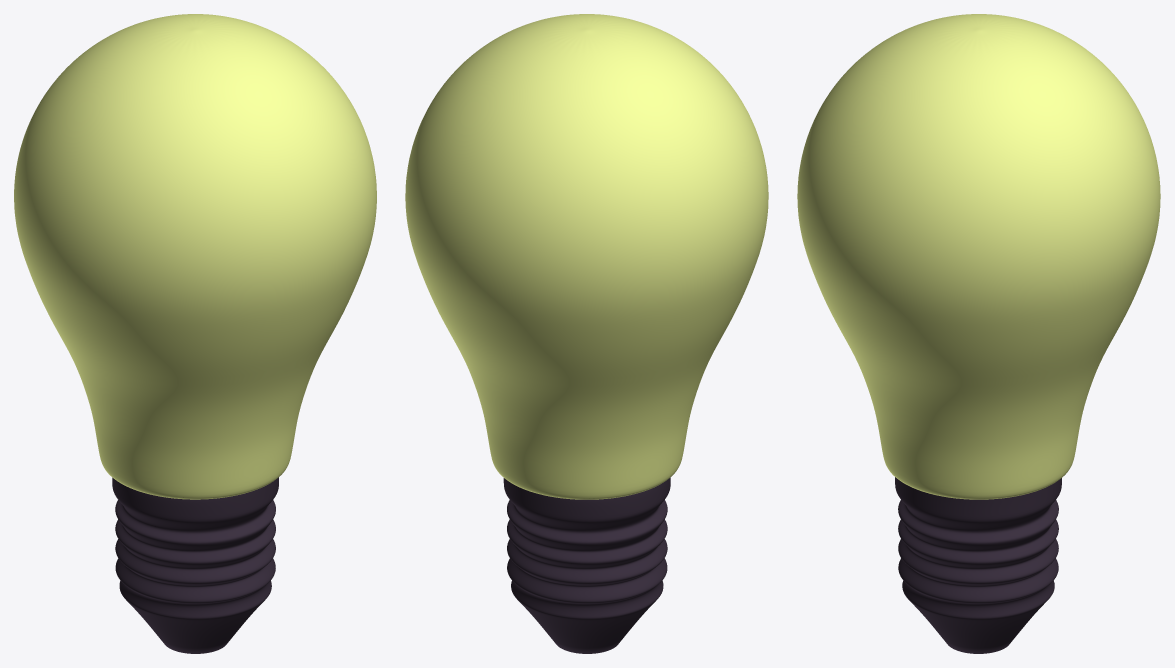
File: foco2.fbx
The picture shows the model from 3 angles, left to right: view 1: azimuth 30°, elevation 25°; view 2: azimuth 150°, elevation 25°; view 3: azimuth 270°, elevation 25°; orthographic projection.
Parts seen in each view (by area): view 1: ParteSuperiordel foco, foco; view 2: ParteSuperiordel foco, foco; view 3: ParteSuperiordel foco, foco.
Part boxes in pixels (x1,y1,x2,y2): ParteSuperiordel foco: [14, 14, 376, 499]; foco: [112, 477, 278, 653]; ParteSuperiordel foco: [405, 14, 768, 499]; foco: [503, 477, 670, 653]; ParteSuperiordel foco: [797, 14, 1160, 499]; foco: [895, 477, 1061, 653].
Size of the model in its own units: 250 by 463 by 250.
